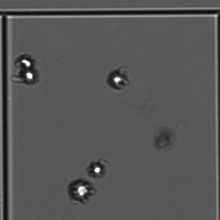Dead Cell: (152, 129, 177, 150)
Living Cell: (105, 67, 132, 91), (68, 178, 95, 202), (86, 160, 109, 178), (15, 52, 36, 69), (18, 66, 39, 83)
